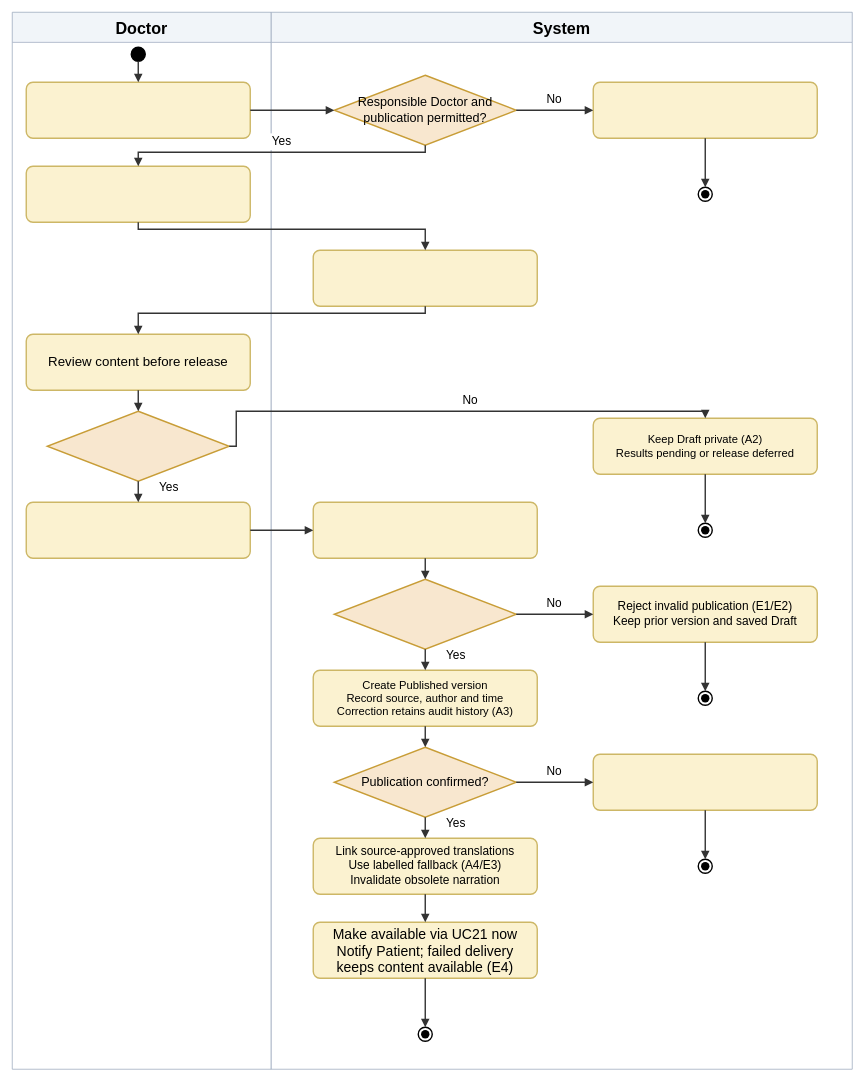
This 865x1082 diagram has some shape labels left out. Here are the shapes that lost their labels. From the top down, the centre of each, then its label:
At [138,110]: "Open correct Visit Results and Care Instructions".
At [705,110]: "Deny unauthorized access / publication (E1)".
At [138,194]: "Enter / review approved material Optional authorized reference (A1/A5)".
At [425,278]: "Save private Draft Keep previous publication (E2)".
At [138,446]: "Ready to publish?".
At [138,530]: "Choose Publish to Patient Optional UC17 completion".
At [425,530]: "Revalidate authority and publication data".
At [425,614]: "Publication valid?".
At [705,782]: "No false publication (E2) Check result before retry".
